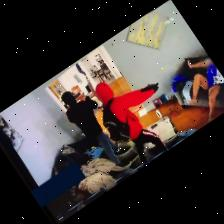person: (96, 82, 167, 165), (62, 91, 131, 166), (191, 67, 223, 121)
